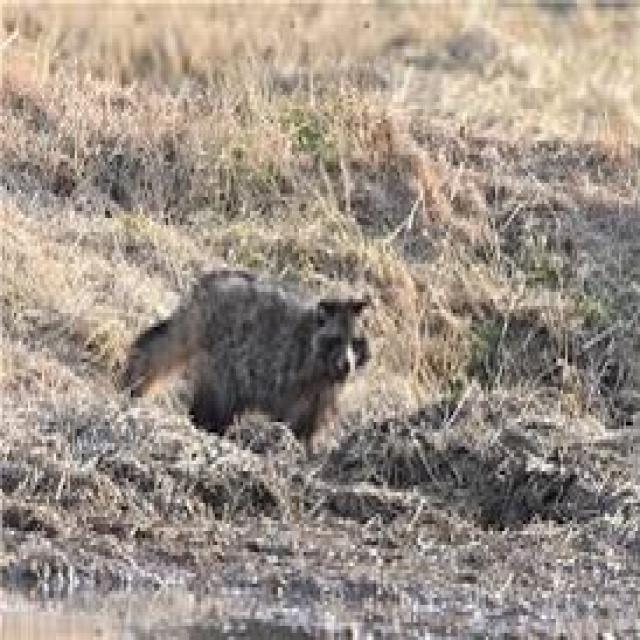racoon: (109, 264, 382, 468)
